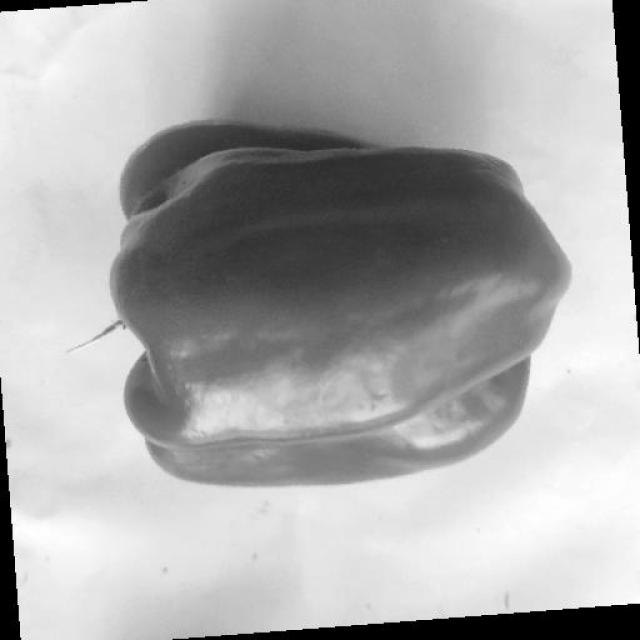Fresh_Capsicum: (112, 129, 576, 505)
